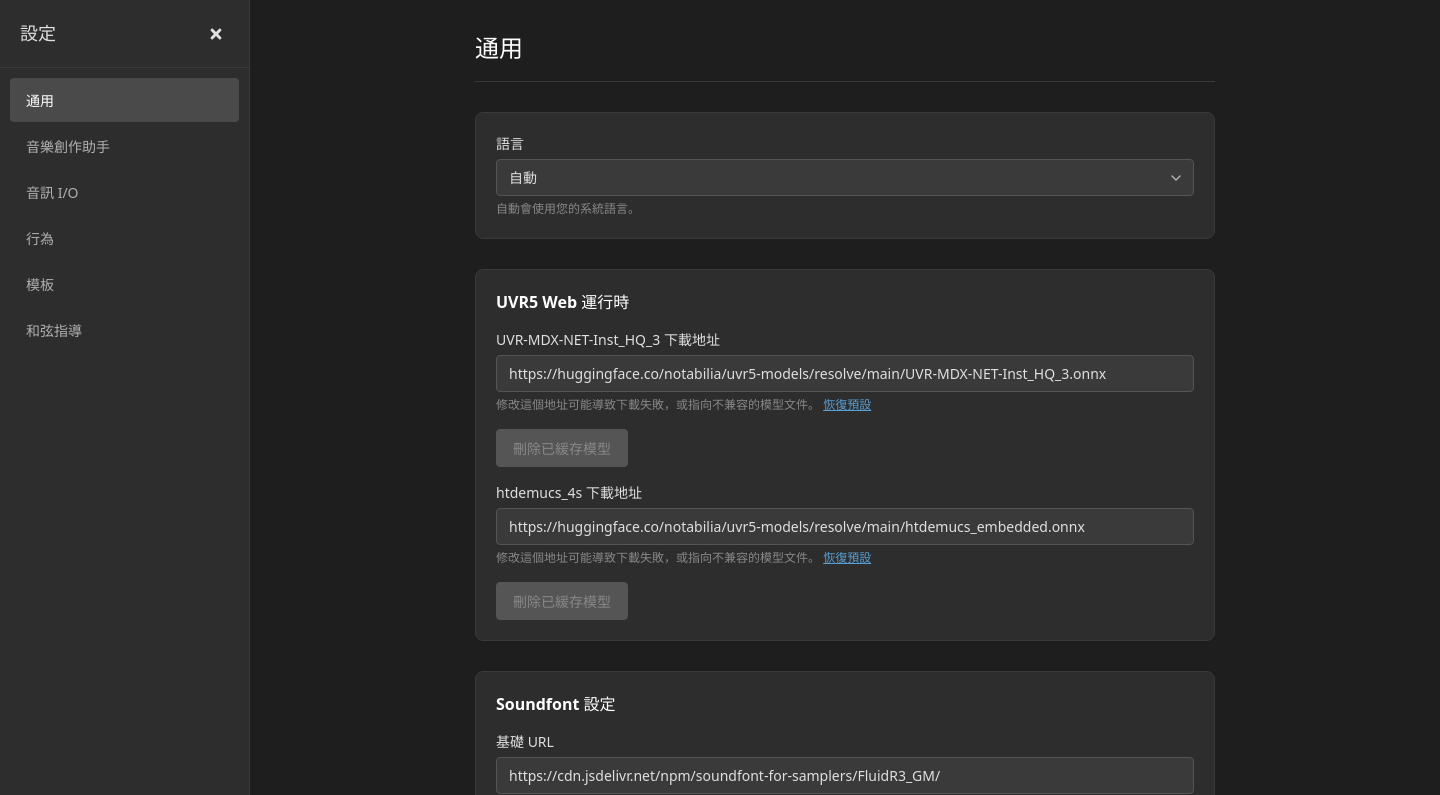
Scenario: MusicAssistantSettings › uses the confirmed tab and title translation for zh_hk
Click the button "音樂創作助手" at (124, 146), box [10,124,239,168]
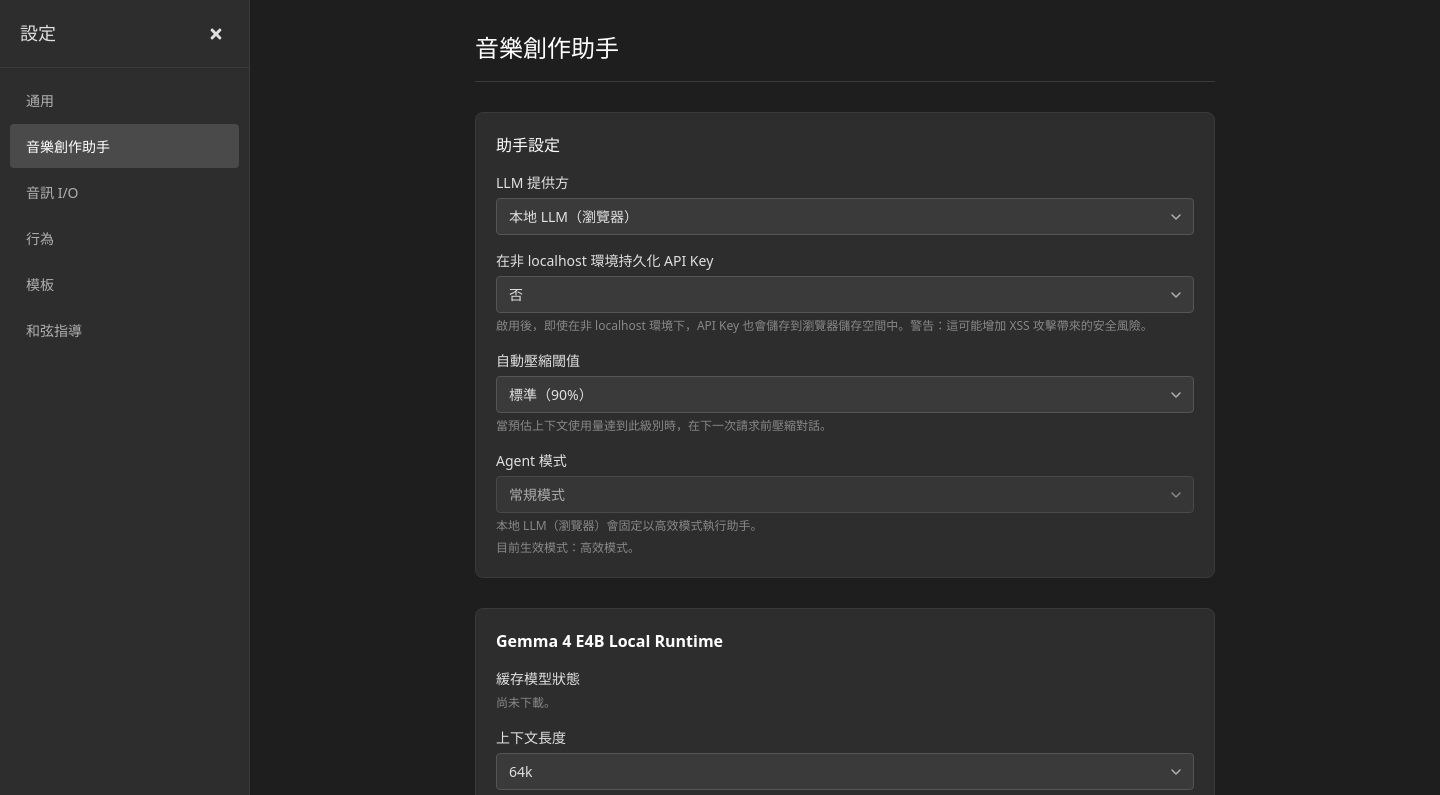
Expected: the heading "音樂創作助手" is shown, [475,31,619,64]
